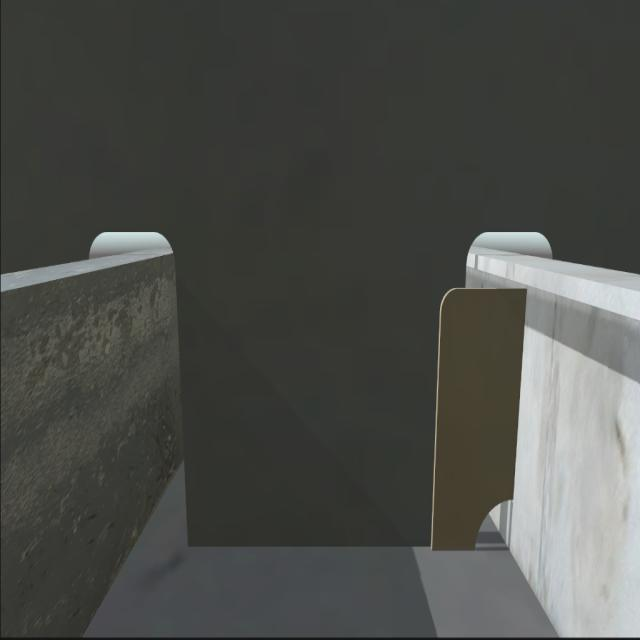fillet_hole: (474, 499, 512, 552)
fillet_yong_jeop_jang: (185, 529, 481, 561)
longi_yong_jeop_jang: (505, 281, 532, 507)
plate_CP05: (438, 292, 514, 554)
